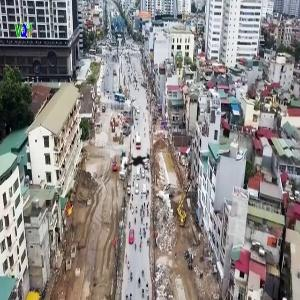drone: (115, 142, 163, 190)
